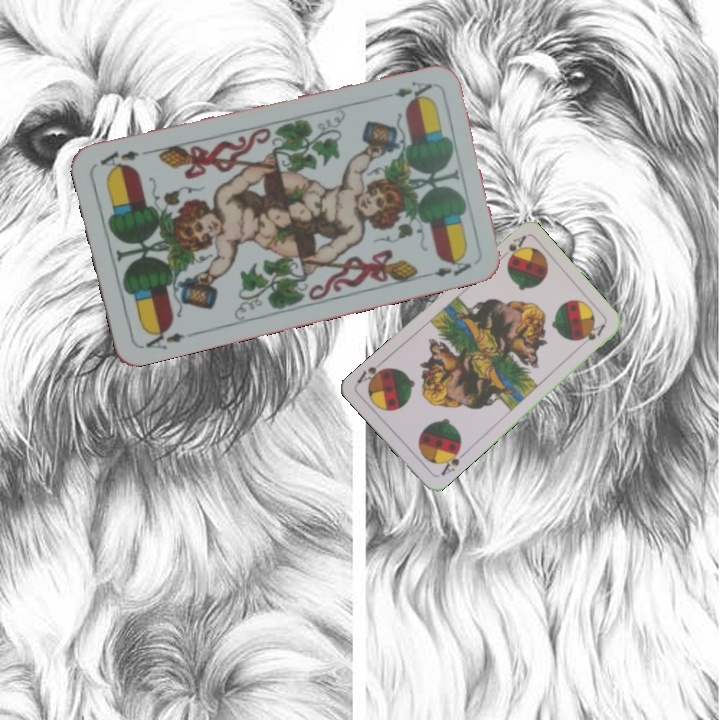EA: (142, 322, 197, 352), (390, 77, 435, 100)
SA: (437, 443, 468, 479), (503, 232, 529, 264)
